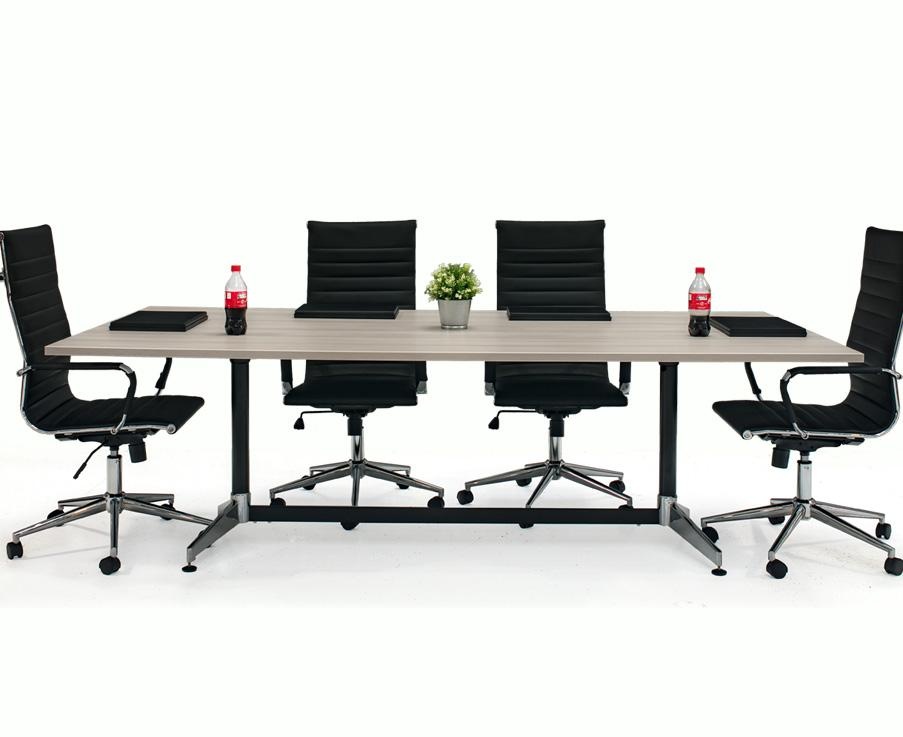conference_table: (44, 309, 865, 576)
